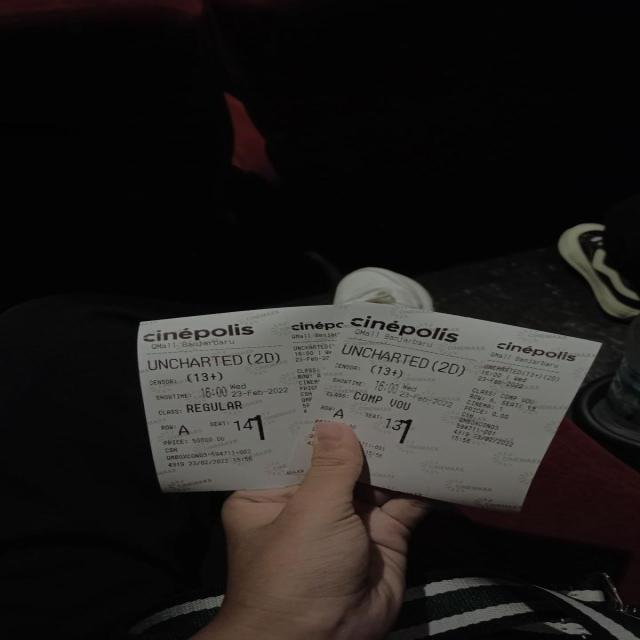date: (198, 384, 299, 400)
store: (141, 322, 273, 348)
total: (158, 437, 231, 447)
